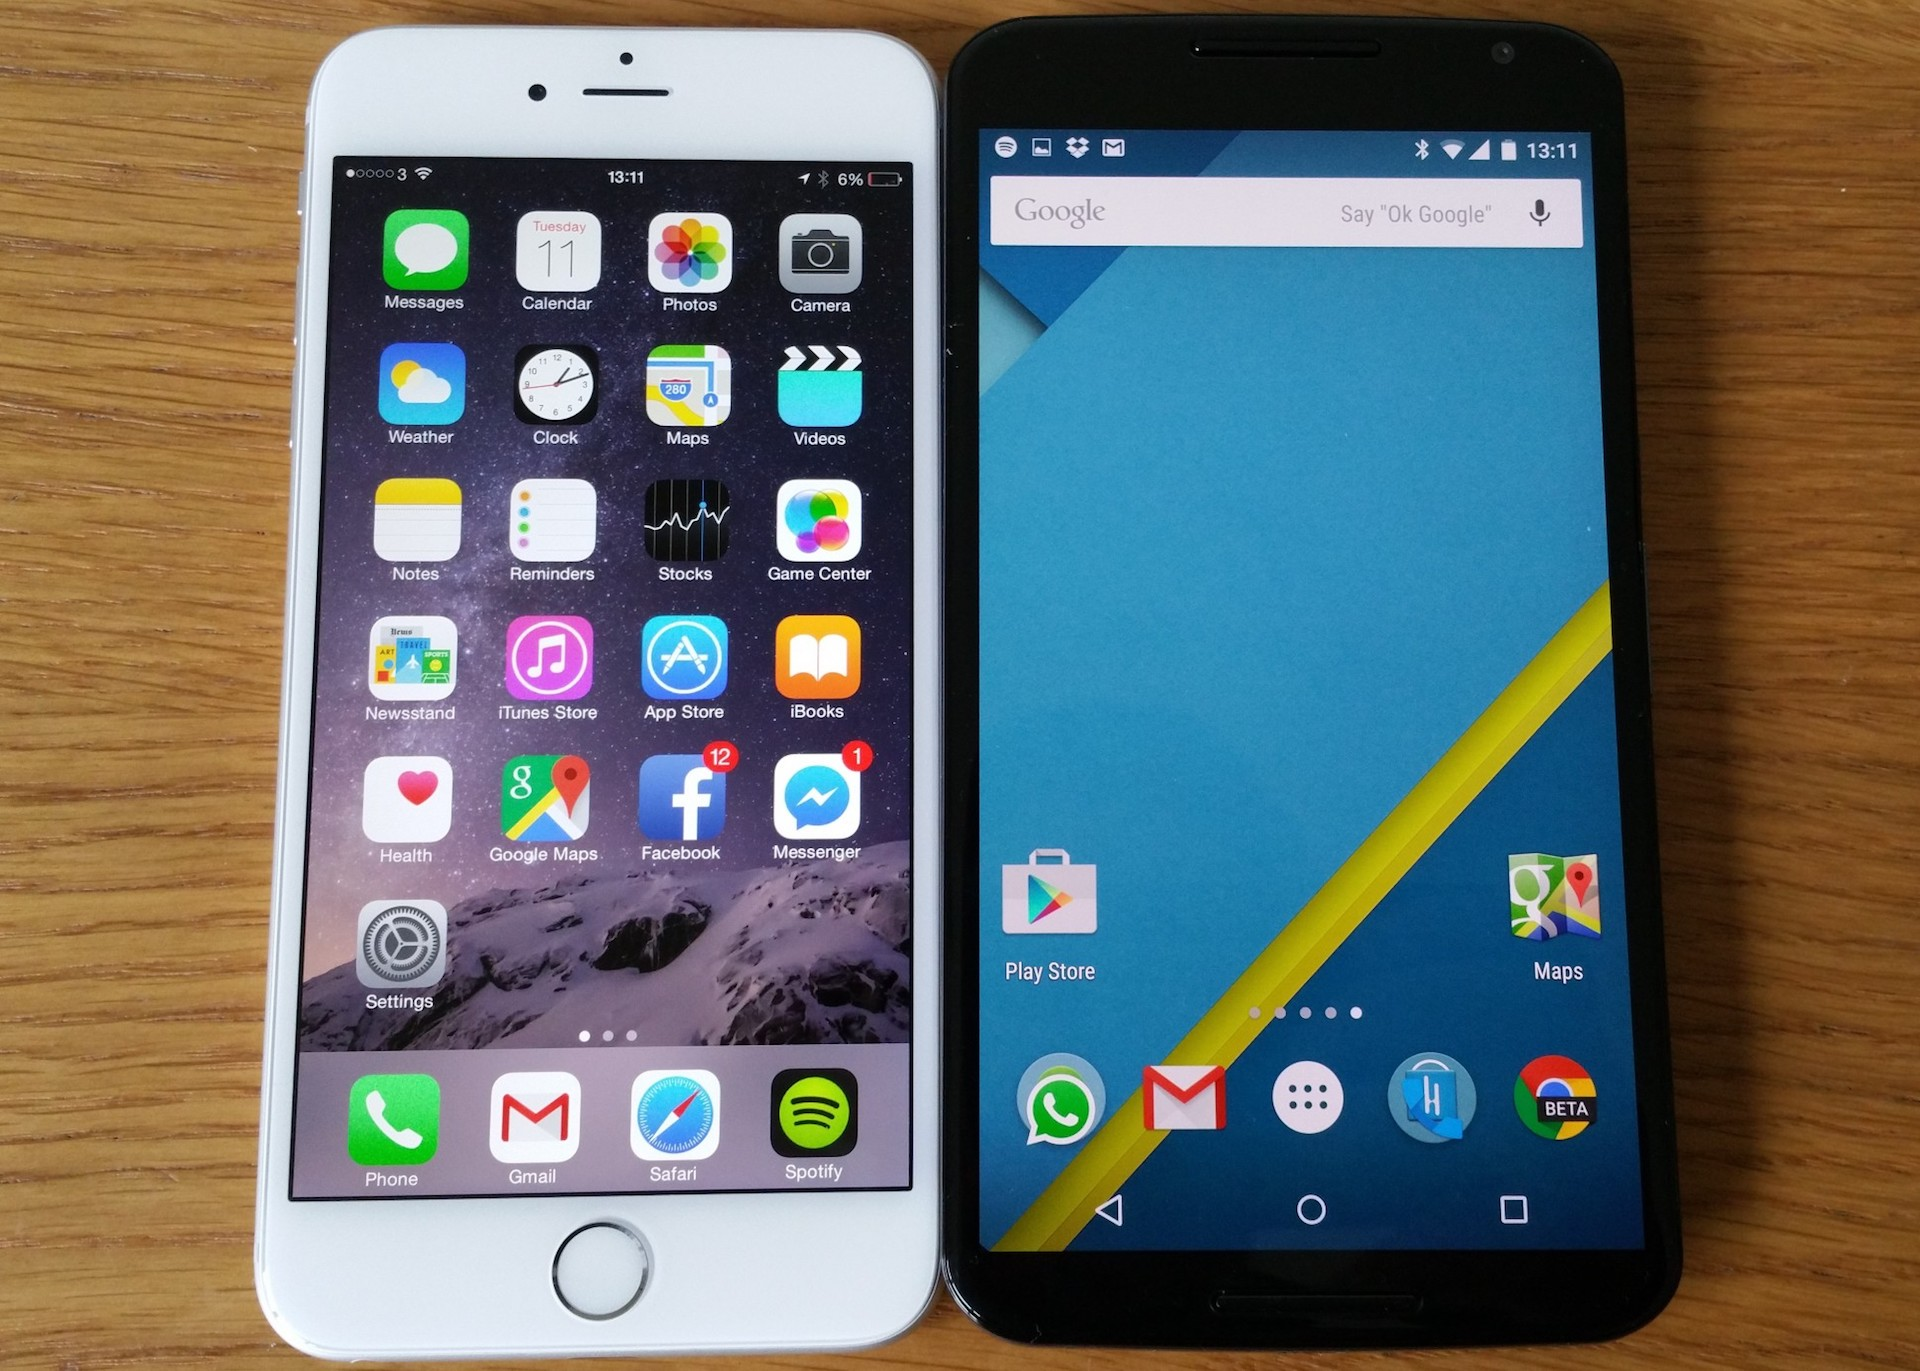smartphone: (938, 10, 1686, 1355), (251, 19, 941, 1367)
